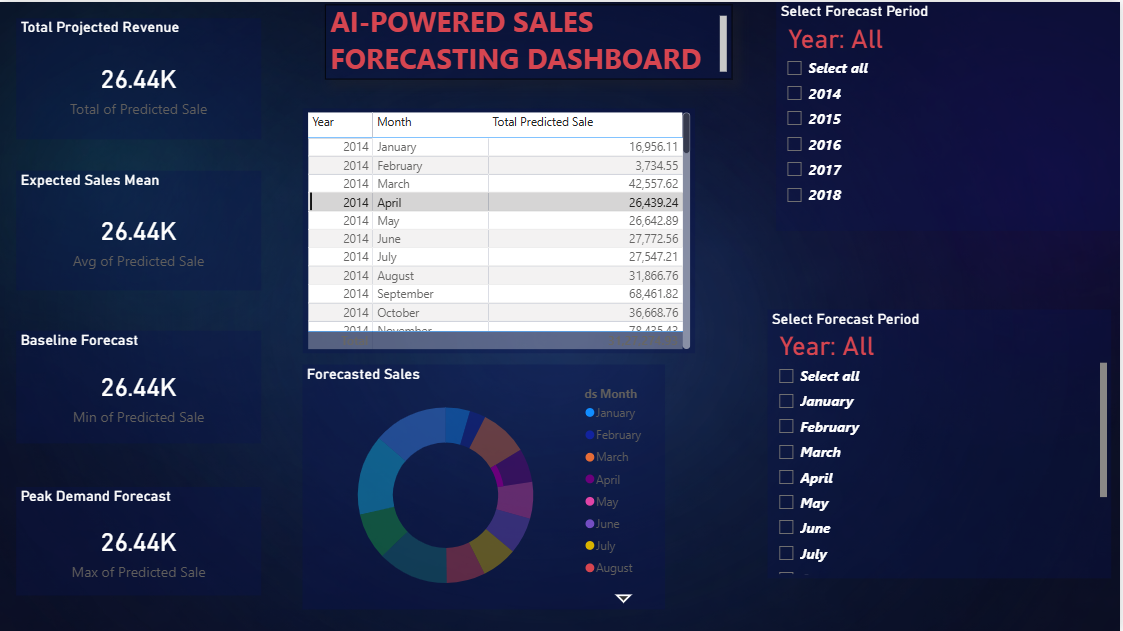

The page's visual inventory and layout, read from the dashboard file:
{"tool":"powerbi","page":{"name":"Page 1","canvas":[1280,720],"ordinal":0},"visuals":[{"type":"tableEx","title":"Forecasted Sales","fields":{"Values":["final_forecast_report.ds.Variation.Date Hierarchy.Year","final_forecast_report.ds.Variation.Date Hierarchy.Month","Sum(final_forecast_report.yhat)"]},"box":[345.7,121.4,437.1,280],"z":0},{"type":"card","title":"Total Projected Revenue","fields":{"Values":["Sum(final_forecast_report.yhat)"]},"box":[18.6,18.6,280,138.6],"z":1},{"type":"card","title":"Peak Demand Forecast","fields":{"Values":["Max(final_forecast_report.yhat)"]},"box":[18.6,554.3,280,124.3],"z":2},{"type":"slicer","title":"Select Forecast Period","fields":{"Values":["final_forecast_report.ds.Variation.Date Hierarchy.Year"]},"box":[887.1,0,392.9,261.4],"z":3},{"type":"donutChart","title":"Forecasted Sales","fields":{"Category":["final_forecast_report.ds.Variation.Date Hierarchy.Year","final_forecast_report.ds.Variation.Date Hierarchy.Quarter","final_forecast_report.ds.Variation.Date Hierarchy.Month"],"Y":["Sum(final_forecast_report.yhat)"]},"box":[345.7,414.3,414.3,280],"z":6},{"type":"card","title":"Baseline Forecast","fields":{"Values":["Min(final_forecast_report.yhat)"]},"box":[18.6,375.7,280,128.6],"z":7},{"type":"card","title":"Expected Sales Mean","fields":{"Values":["Avg(final_forecast_report.yhat)"]},"box":[18.6,192.9,280,137.1],"z":8},{"type":"slicer","title":"Select Forecast Period","fields":{"Values":["final_forecast_report.ds.Variation.Date Hierarchy.Month"]},"box":[877.1,351.4,392.9,307.1],"z":9},{"type":"textbox","box":[371.4,2.9,465.7,85.7],"z":10}]}

Visuals, with their boxes in screenshot pixels (x1, y1, x2, y2), scaled from the page's 1280x720 canvas onto the 1123x631 screenshot:
"Forecasted Sales" tableEx: [x1=303, y1=106, x2=687, y2=352]
"Total Projected Revenue" card: [x1=16, y1=16, x2=262, y2=138]
"Peak Demand Forecast" card: [x1=16, y1=486, x2=262, y2=595]
"Select Forecast Period" slicer: [x1=778, y1=0, x2=1122, y2=229]
"Forecasted Sales" donutChart: [x1=303, y1=363, x2=667, y2=608]
"Baseline Forecast" card: [x1=16, y1=329, x2=262, y2=442]
"Expected Sales Mean" card: [x1=16, y1=169, x2=262, y2=289]
"Select Forecast Period" slicer: [x1=770, y1=308, x2=1114, y2=577]
textbox: [x1=326, y1=3, x2=734, y2=78]
